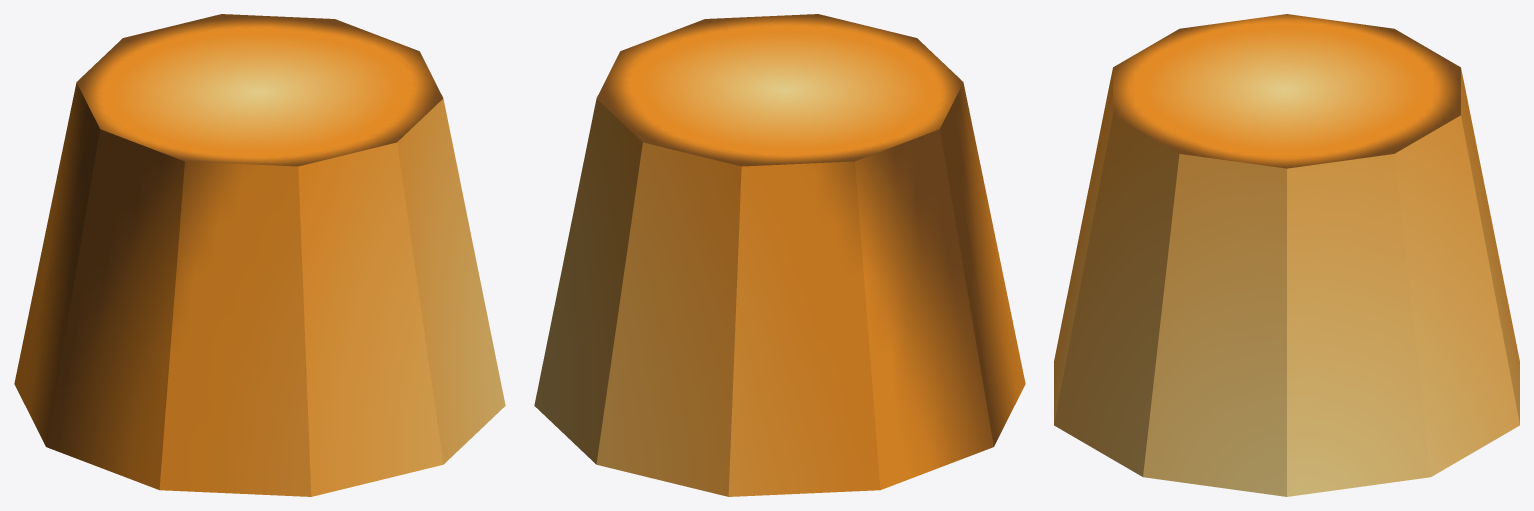
Rendered from CabBeaconGlow.fbx.
The picture shows the model from 3 angles, left to right: view 1: azimuth 30°, elevation 25°; view 2: azimuth 150°, elevation 25°; view 3: azimuth 270°, elevation 25°; orthographic projection.
Visible parts, largest first — view 1: CabBeaconGlow; view 2: CabBeaconGlow; view 3: CabBeaconGlow.
Part boxes in pixels (x1,y1,x2,y2): CabBeaconGlow: [14, 14, 505, 496]; CabBeaconGlow: [534, 14, 1025, 496]; CabBeaconGlow: [1054, 14, 1519, 496].
Bounding box in the file's own units: 0.316 × 0.215 × 0.3005.
